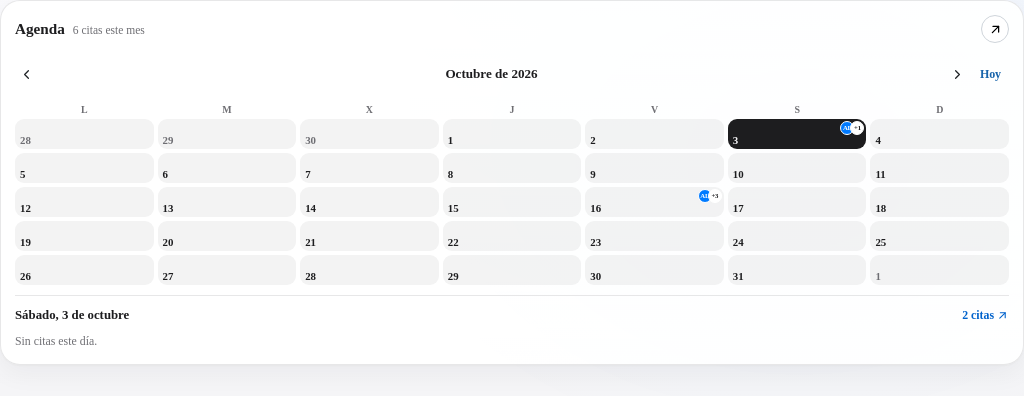
Test: DashboardCalendar › lists the chosen day's appointments and links to that day in the agenda
The image size is (1024, 396).
Click the link with aria-label "16 de octubre, 4 citas". click: (655, 202)
box: [585,187,724,217]
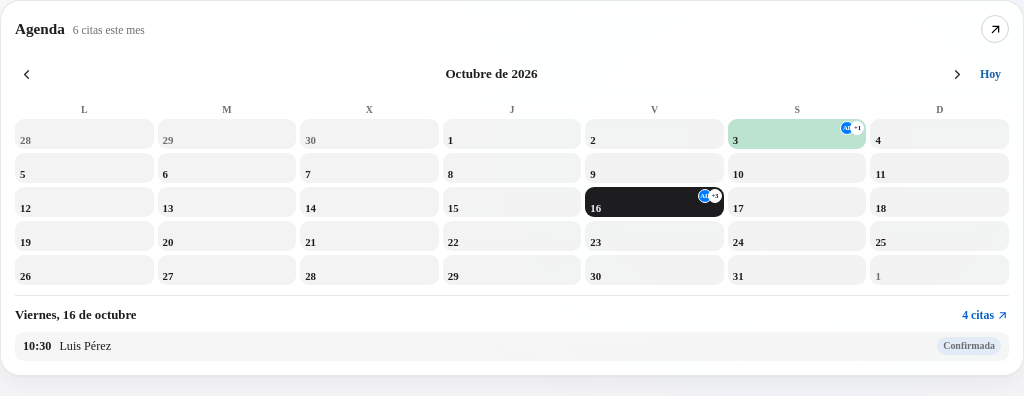
Now the text "Luis Pérez" is shown, box [59,339,111,353]
Now the text "10:30" is shown, box [23,337,51,356]
